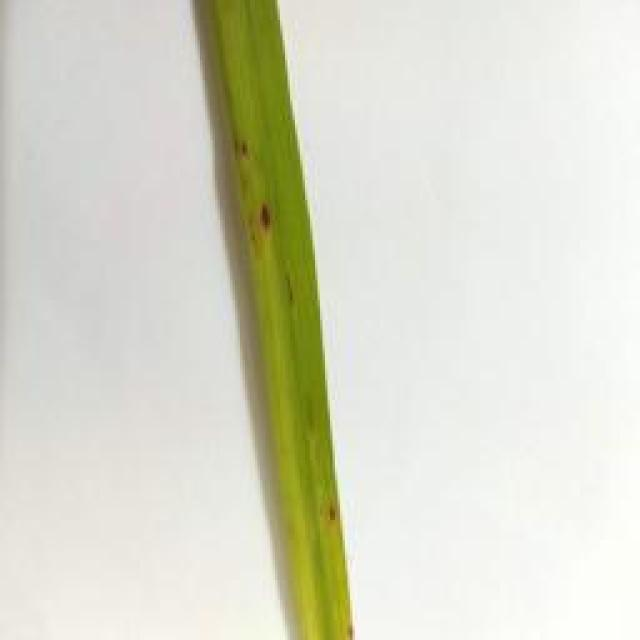Brown_Spot: (225, 130, 255, 163), (260, 190, 280, 237), (324, 500, 349, 522)
